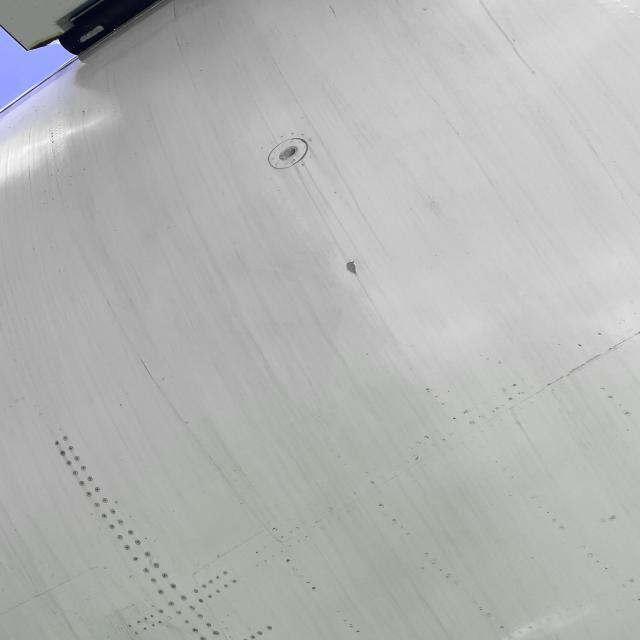crack: (134, 361, 164, 386), (339, 262, 364, 282)
